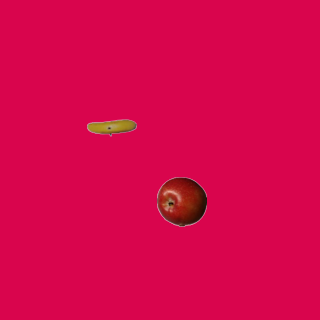Apple Braeburn: (156, 176, 206, 226)
Banana: (86, 102, 136, 152)
